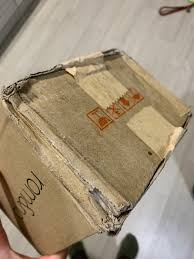damaged package: (1, 48, 126, 123), (71, 154, 171, 237)
